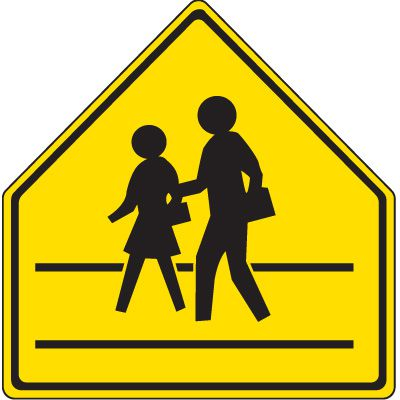CrossSign: (8, 3, 400, 400)
